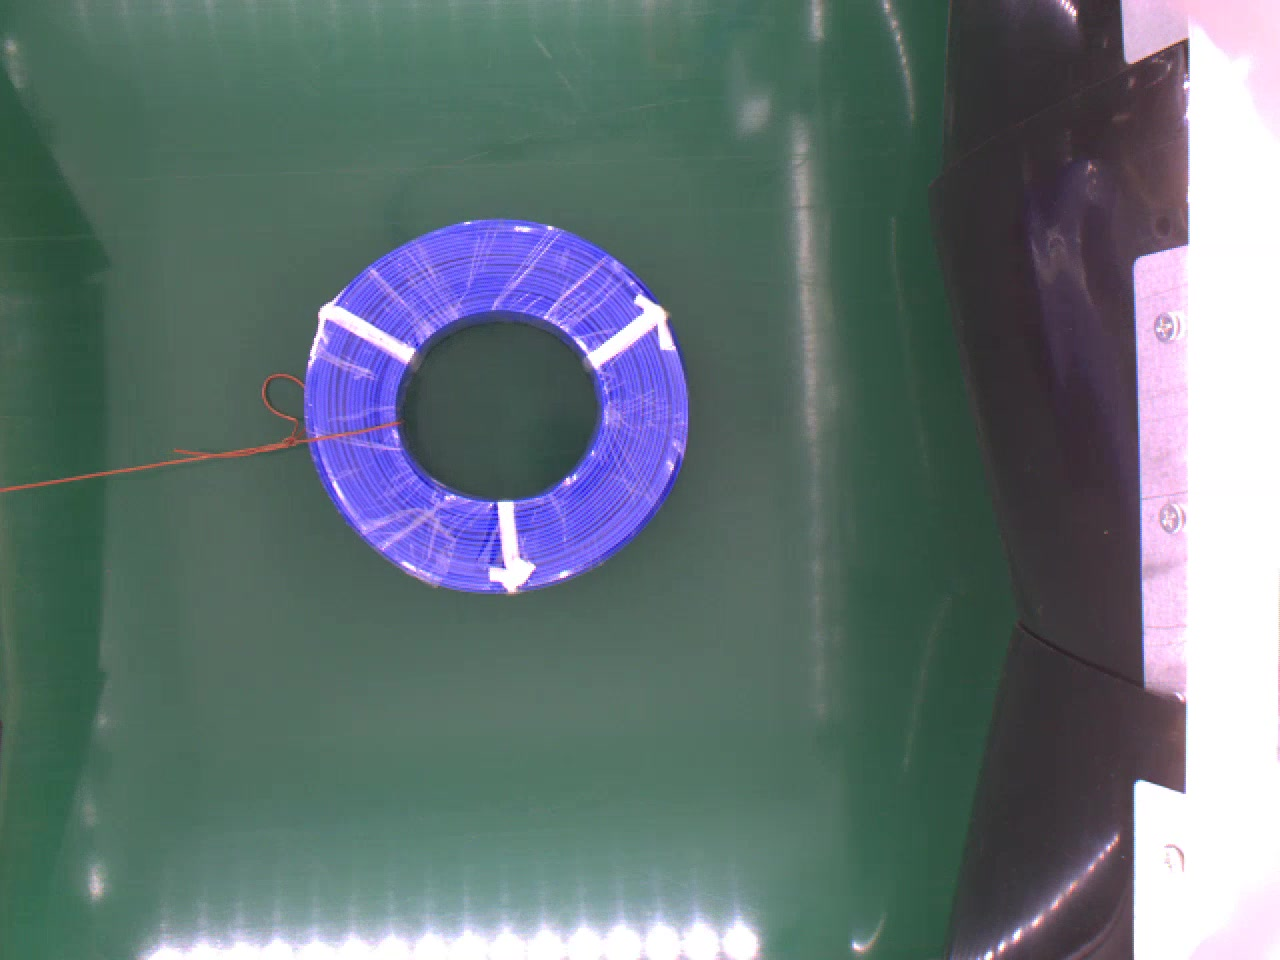blue: (302, 213, 694, 595)
